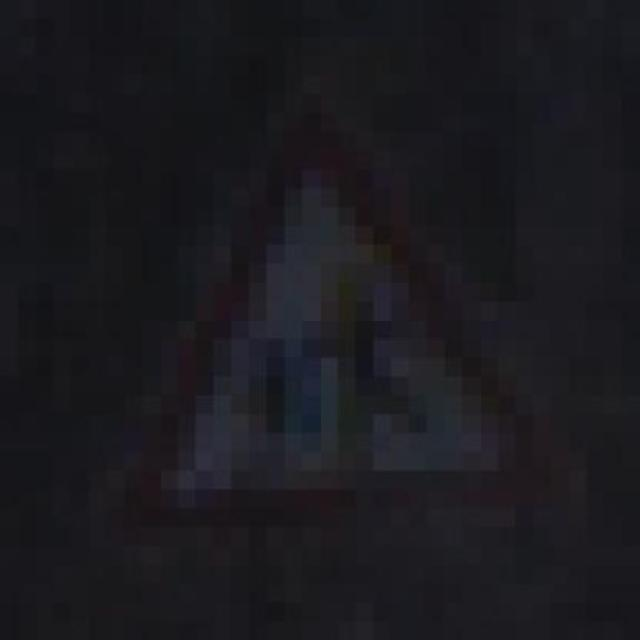Beware of children: (114, 94, 523, 546)
